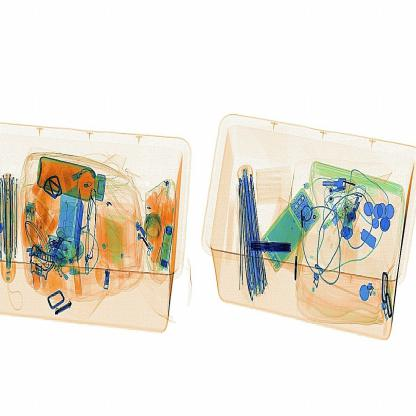scissors: (245, 229, 296, 265)
